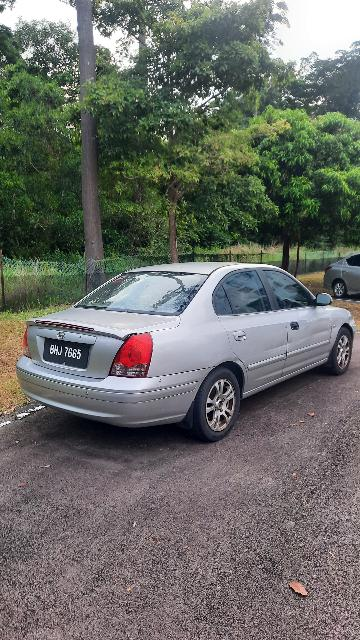License_Plate: (45, 339, 91, 372)
car: (16, 264, 360, 443)
